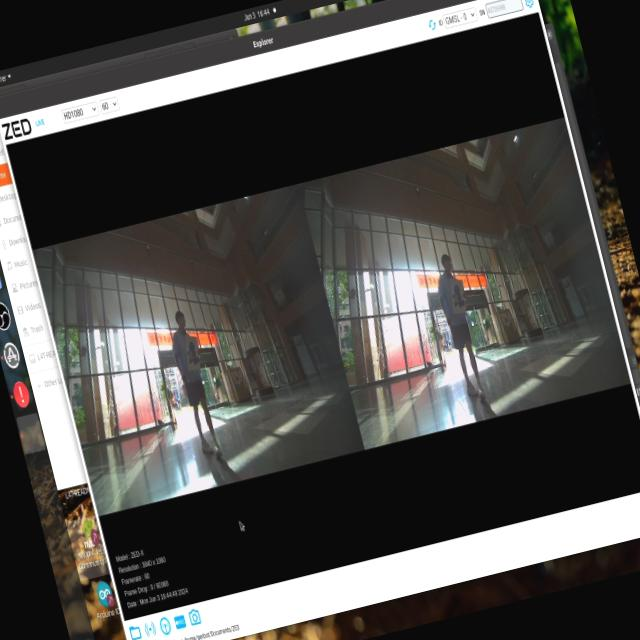blue: (443, 284, 468, 310), (188, 339, 200, 360)
